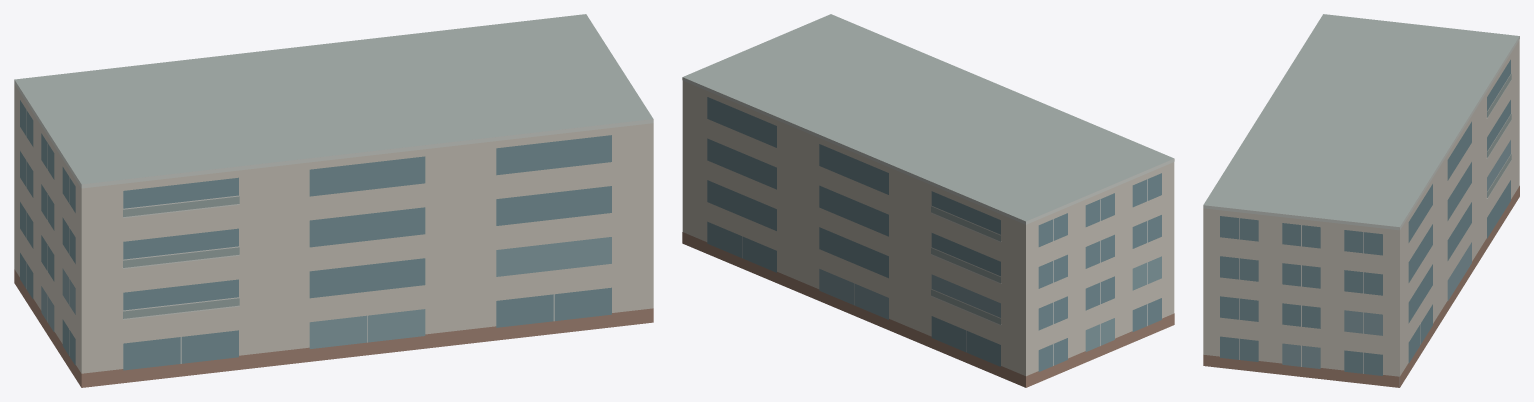
The model's file is residential-728f7ca8-205b-4bd4-9aad-011035f8567f.glb.
3 views of the same model, side by side, from view 1: azimuth 30°, elevation 25°; view 2: azimuth 150°, elevation 25°; view 3: azimuth 270°, elevation 25° (orthographic). The views are drawn at different scales.
Visible parts, largest first — view 1: residential-728f7ca8-205b-4bd4-9aad-011035f8567f.tmp; view 2: residential-728f7ca8-205b-4bd4-9aad-011035f8567f.tmp; view 3: residential-728f7ca8-205b-4bd4-9aad-011035f8567f.tmp.
Boxes of the visible parts, x1=… form: residential-728f7ca8-205b-4bd4-9aad-011035f8567f.tmp: x1=14, y1=14, x2=653, y2=387; residential-728f7ca8-205b-4bd4-9aad-011035f8567f.tmp: x1=682, y1=14, x2=1174, y2=387; residential-728f7ca8-205b-4bd4-9aad-011035f8567f.tmp: x1=1203, y1=14, x2=1519, y2=387.
Bounding box in the file's own units: 34.72 × 12.2 × 21.79.
